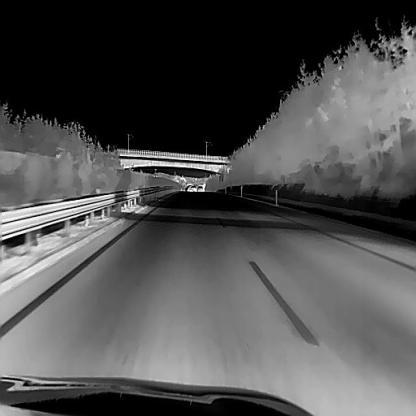car: (197, 183, 204, 190)
